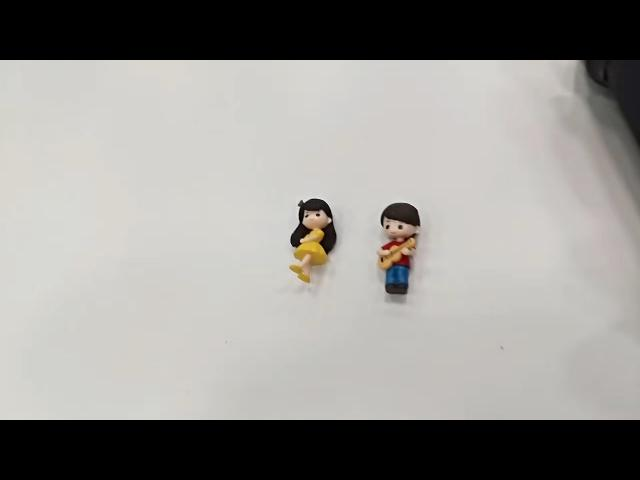man: (372, 194, 422, 298)
woman: (284, 190, 342, 290)
